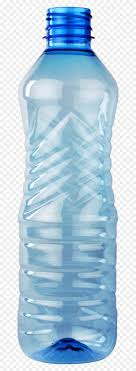plastic_bottle: (19, 5, 118, 364)
